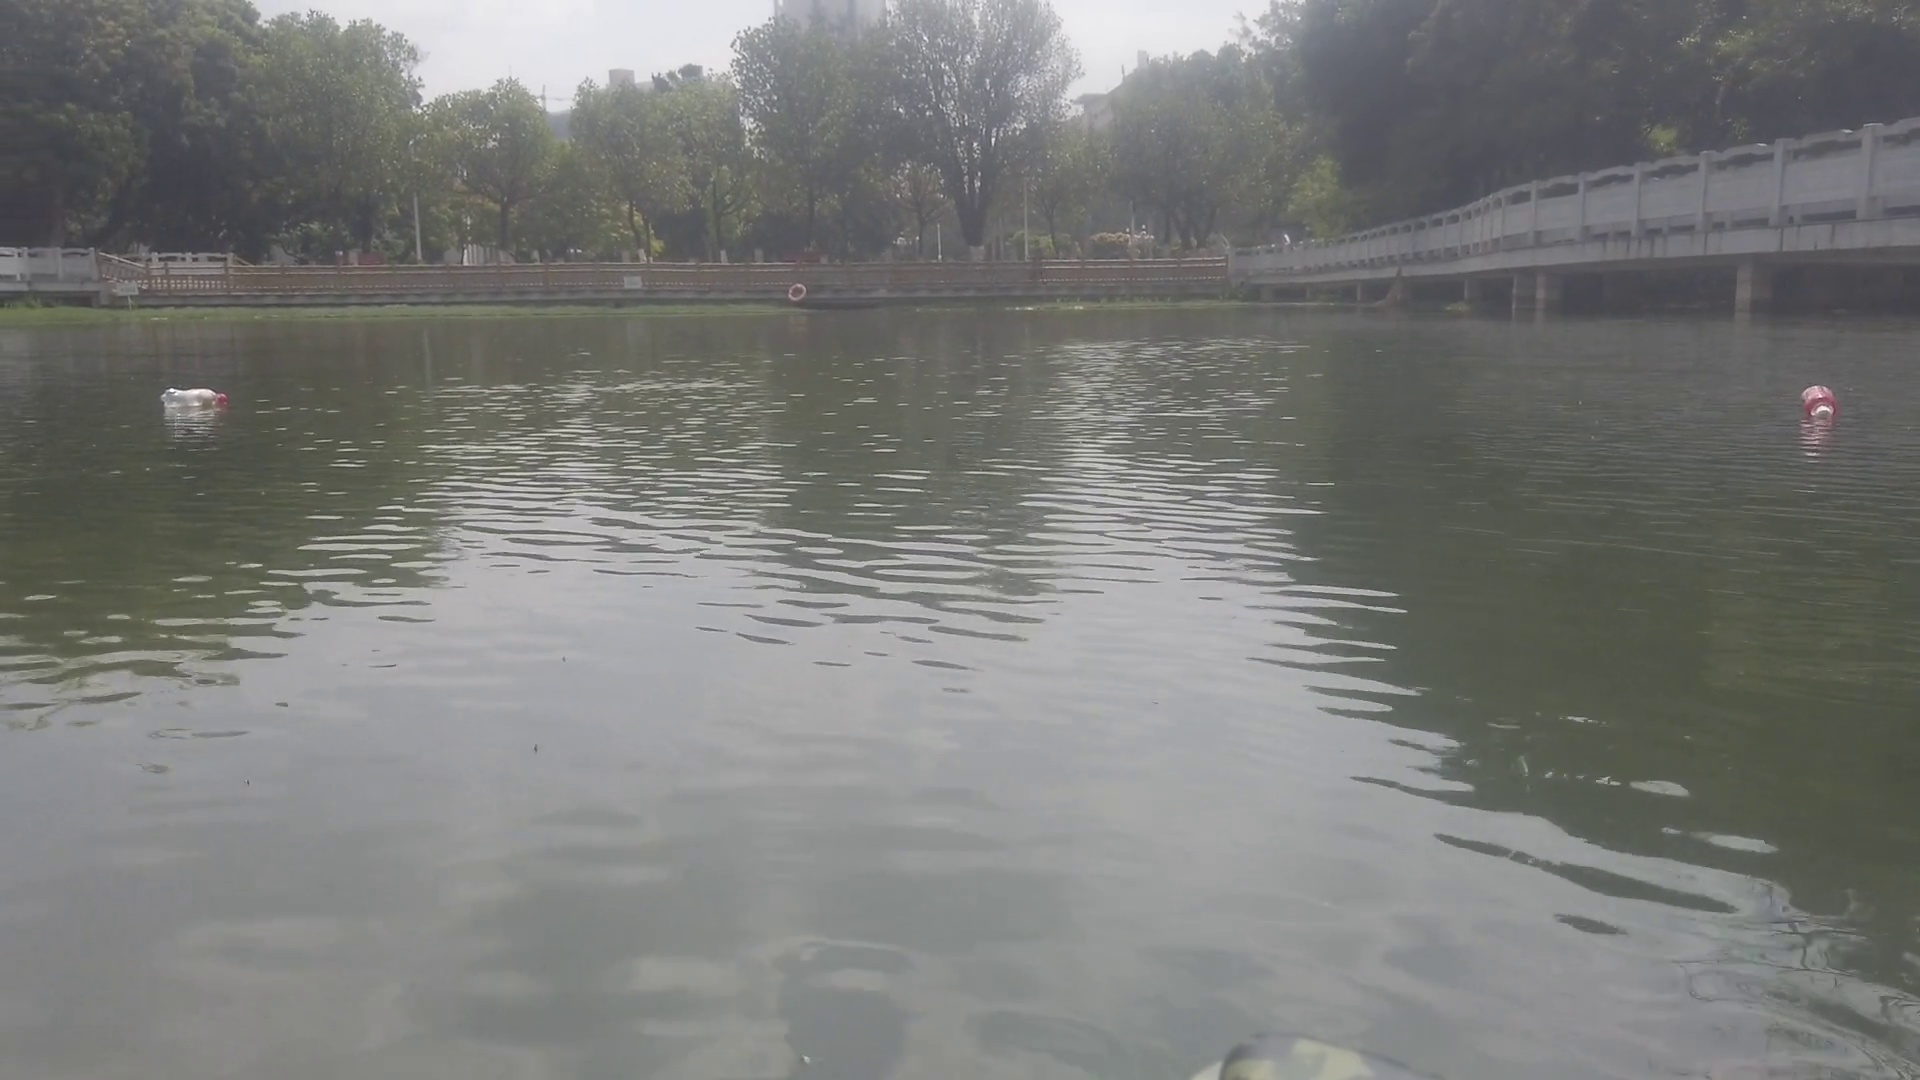bottle: (156, 382, 231, 411), (1799, 382, 1842, 423)
